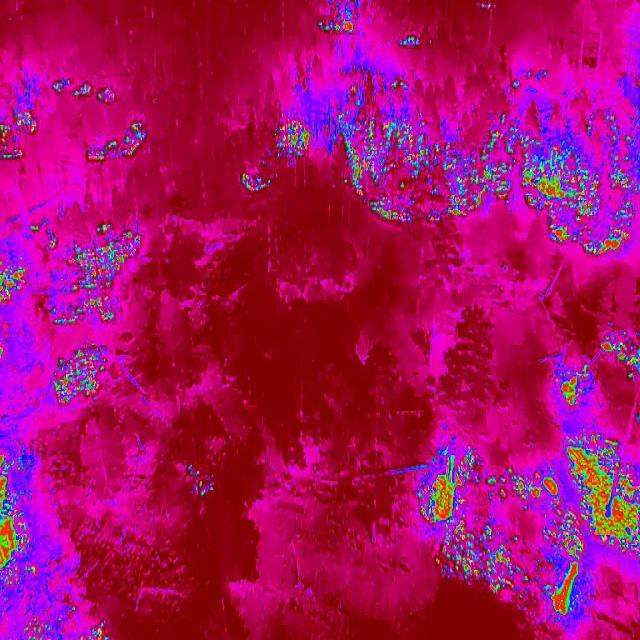fire: (324, 67, 637, 251), (49, 222, 150, 329), (566, 430, 640, 572), (432, 518, 544, 606), (414, 448, 484, 530), (0, 453, 39, 592), (51, 339, 123, 407), (85, 114, 152, 170), (481, 468, 564, 513), (46, 70, 122, 109), (1, 100, 40, 166), (270, 120, 315, 170), (558, 355, 599, 407), (546, 564, 584, 618), (599, 327, 640, 373), (314, 0, 362, 38), (0, 248, 28, 310), (555, 514, 588, 564), (185, 464, 217, 498), (240, 167, 273, 195), (397, 32, 425, 52), (86, 622, 110, 640)
